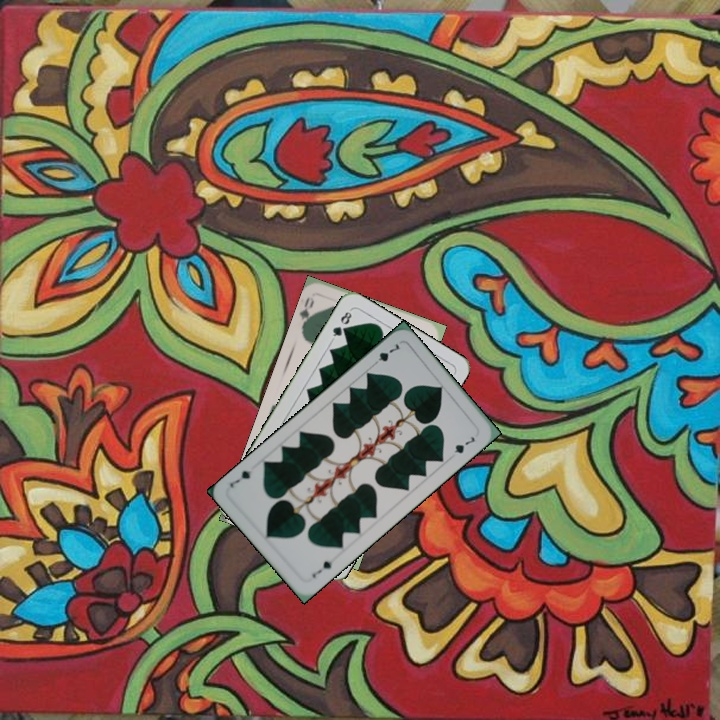G7: (368, 339, 402, 369), (308, 557, 335, 580)
G8: (328, 306, 354, 343)
GO: (296, 292, 318, 332)
